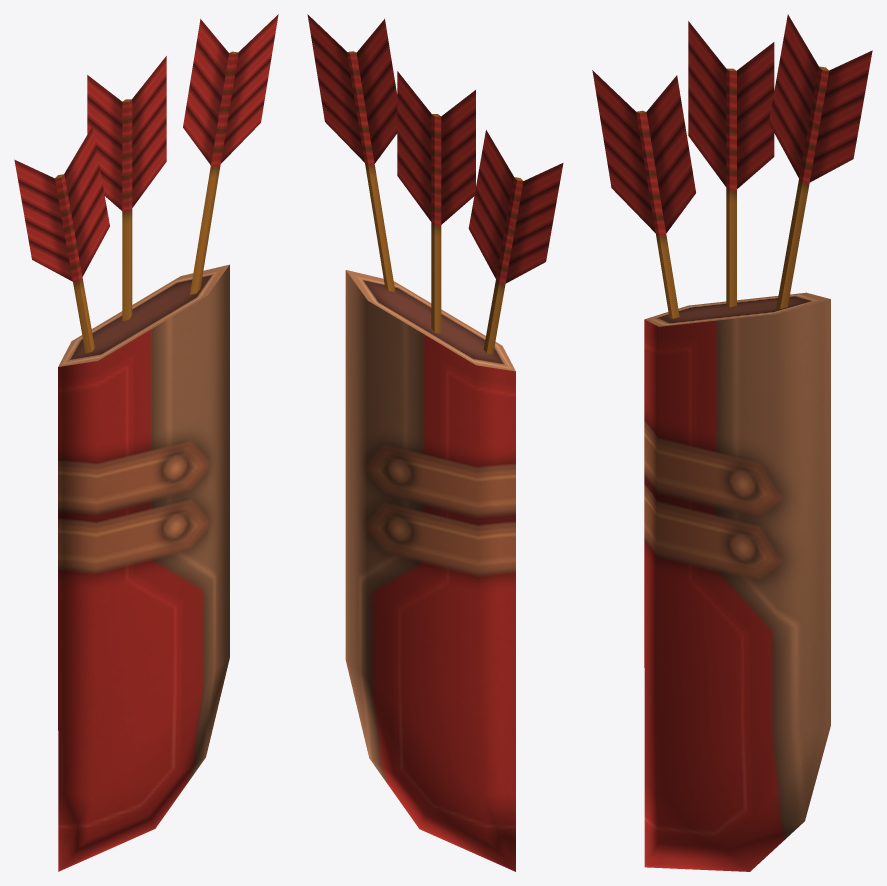
File: ArcherTower_Quiver.FBX
3 views of the same model, side by side, from view 1: azimuth 30°, elevation 25°; view 2: azimuth 150°, elevation 25°; view 3: azimuth 330°, elevation 25° (orthographic). The views are drawn at different scales.
Parts seen in each view (by area): view 1: ArcherTower_Quiver; view 2: ArcherTower_Quiver; view 3: ArcherTower_Quiver.
Part boxes in pixels (box(x1,y1,x2,y2)): ArcherTower_Quiver: box(14, 14, 278, 871); ArcherTower_Quiver: box(307, 14, 563, 871); ArcherTower_Quiver: box(592, 14, 872, 871).
Bounding box in the file's own units: 13.28 × 40 × 2.36.
